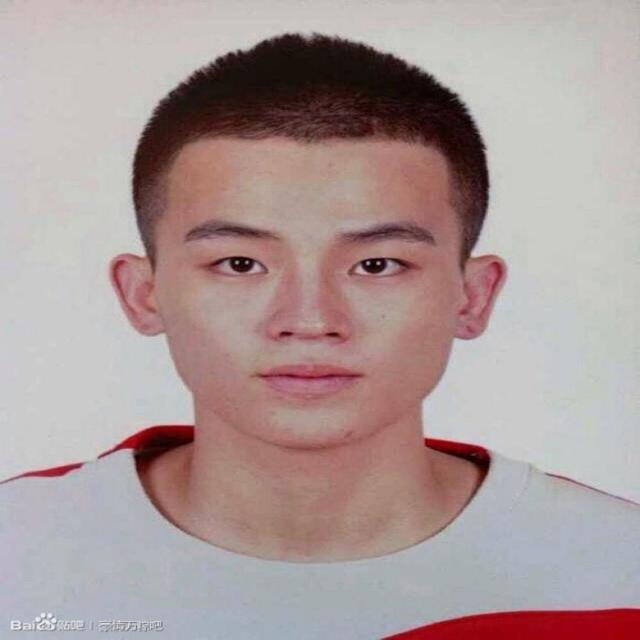Open: (204, 253, 270, 278), (346, 254, 413, 278)
